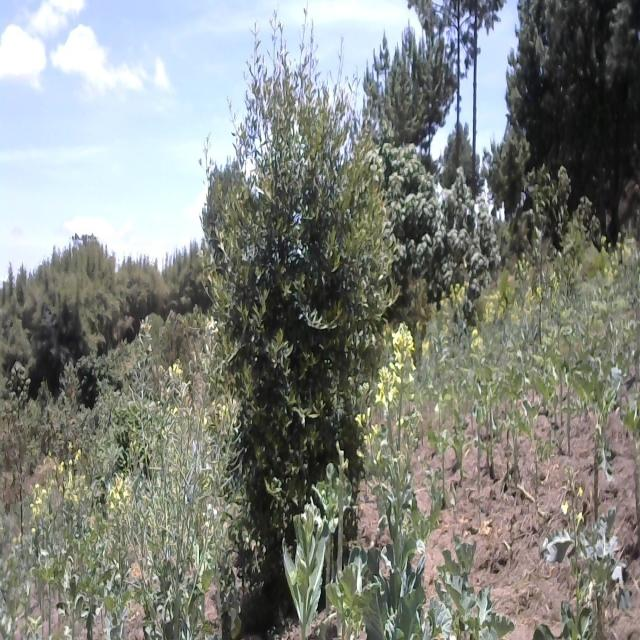other: (210, 29, 395, 547)
